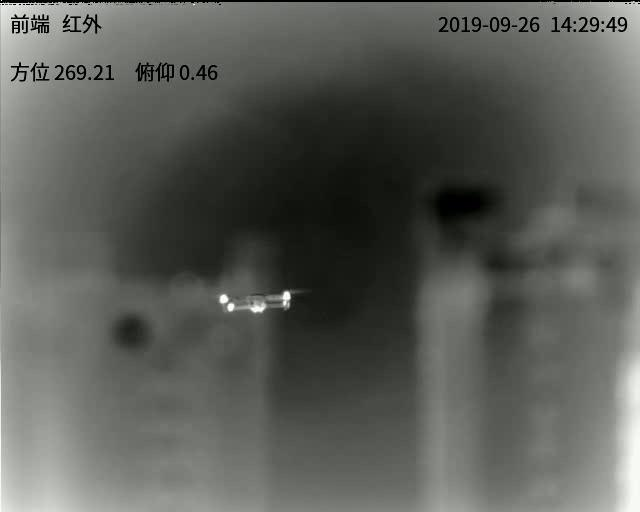DRONE: (219, 289, 293, 315)
